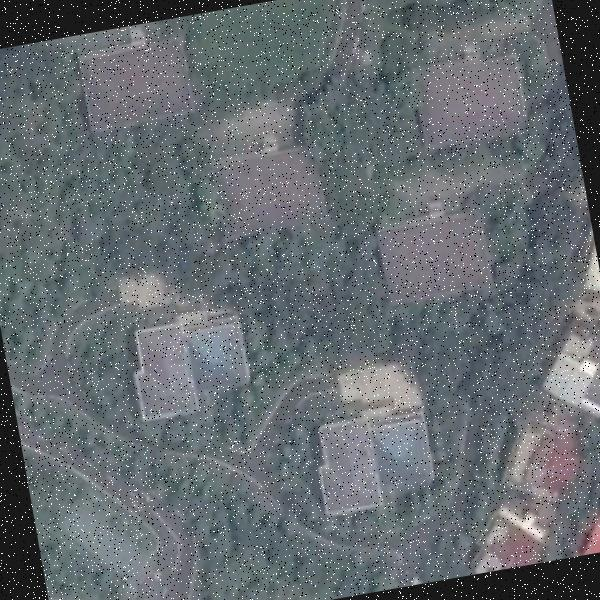Buildings: (410, 29, 537, 144), (378, 189, 493, 303), (318, 406, 436, 514), (126, 318, 248, 414), (211, 150, 323, 234), (82, 42, 186, 126), (502, 412, 584, 505), (463, 510, 547, 574), (537, 337, 600, 408), (574, 245, 600, 306), (584, 482, 600, 552)
